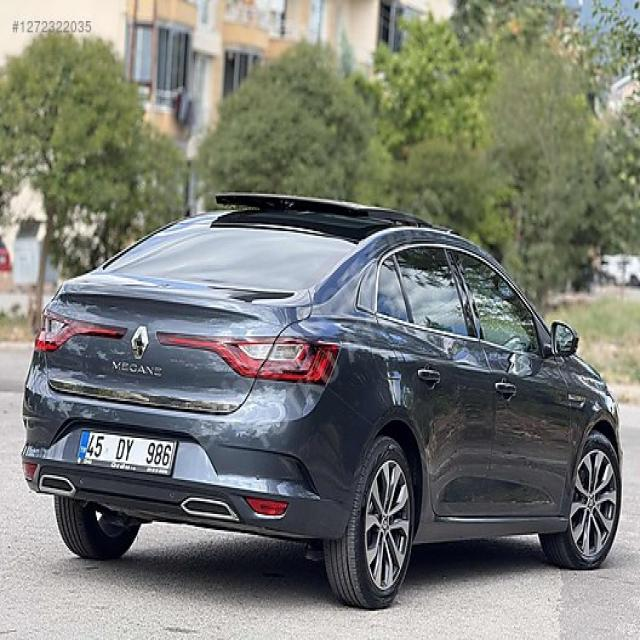renault: (132, 324, 150, 363)
